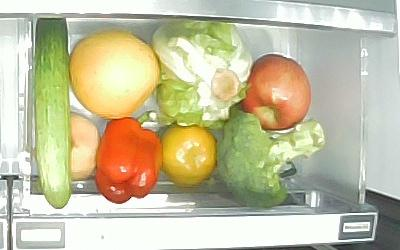apple: (244, 53, 313, 131)
broccoli: (217, 110, 325, 209)
cucumber: (34, 18, 73, 209)
grapefruit: (69, 29, 159, 119)
lettuce: (152, 22, 252, 126)
paprika: (94, 111, 161, 203)
peach: (68, 113, 98, 181)
persimmon: (161, 125, 217, 189)
